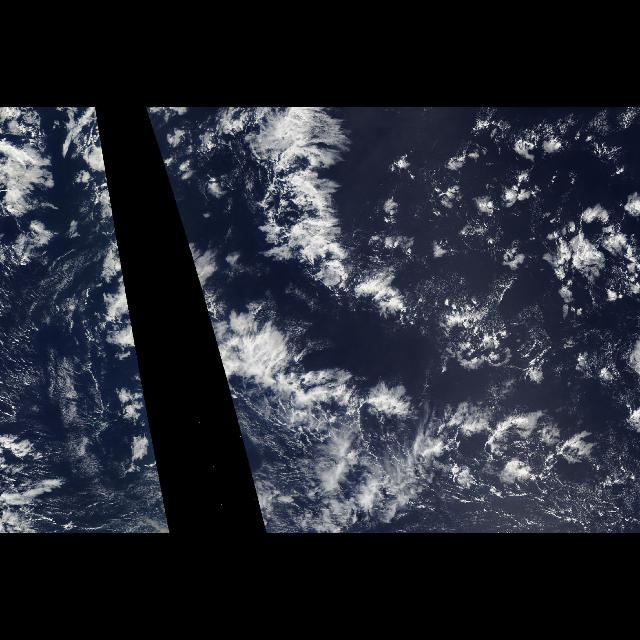Fish: (144, 107, 430, 469), (67, 107, 161, 469)
Flower: (364, 108, 640, 532)
Gravel: (400, 322, 634, 532)
Sugar: (5, 274, 117, 501)
